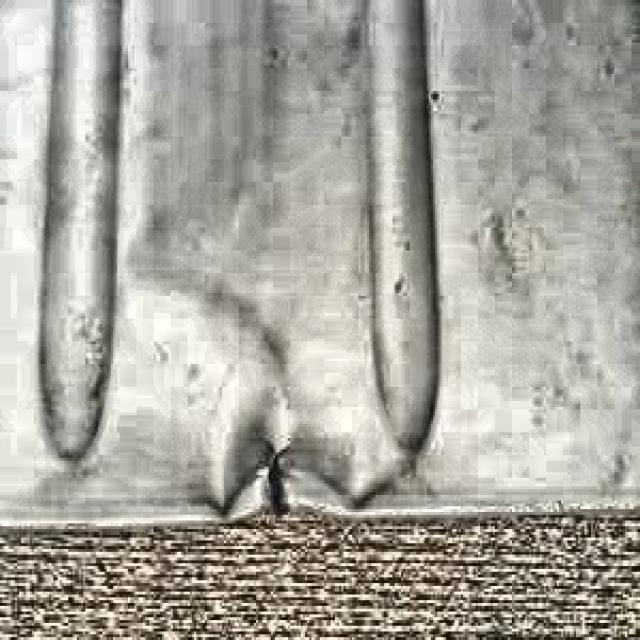crack: (251, 436, 302, 522)
